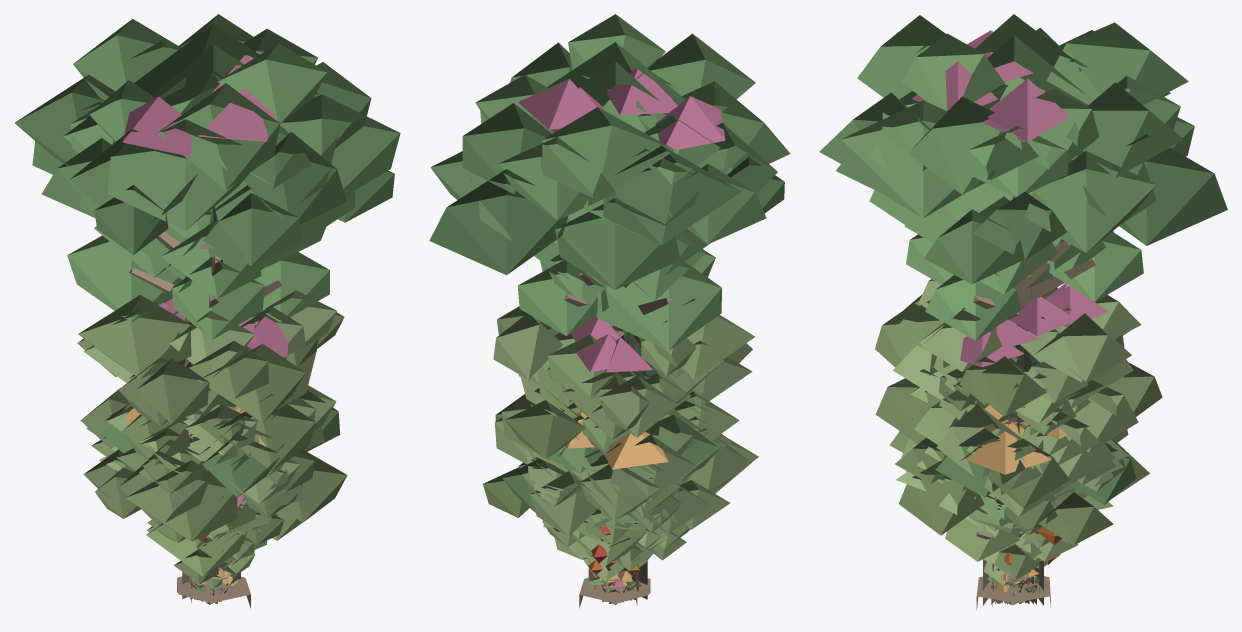
File: summer.glb
3 renders of one model, left to right at view 1: azimuth 30°, elevation 25°; view 2: azimuth 150°, elevation 25°; view 3: azimuth 270°, elevation 25°, orthographic. The views are drawn at different scales.
Parts seen in each view (by area): view 1: tree.trop.kapok__summer, tree.trop.dipterocarp__summer, tree.sub.camphor__summer, tree.temp.willow__summer, tree.temp.oak__summer, tree.sub.paulownia__summer, tree.trop.flame_tree__summer, tree.trop.mango__summer, tree.temp.plane_maple__summer, tree.sub.citrus__summer, tree.sub.tea_oil__summer, tree.trop.baobab__summer (+1 smaller); view 2: tree.trop.kapok__summer, tree.trop.dipterocarp__summer, tree.sub.camphor__summer, tree.trop.flame_tree__summer, tree.sub.paulownia__summer, tree.temp.willow__summer, tree.temp.oak__summer, tree.trop.mango__summer, tree.sub.citrus__summer, tree.sub.tea_oil__summer, tree.temp.plane_maple__summer, tree.trop.baobab__summer (+2 smaller); view 3: tree.trop.kapok__summer, tree.trop.dipterocarp__summer, tree.sub.camphor__summer, tree.temp.oak__summer, tree.trop.flame_tree__summer, tree.temp.willow__summer, tree.sub.paulownia__summer, tree.trop.mango__summer, tree.sub.citrus__summer, tree.temp.plane_maple__summer, tree.temp.ginkgo__summer, tree.temp.birch__summer (+3 smaller).
Part boxes in pixels (x1,y1,x2,y2): tree.trop.kapok__summer: (15, 14, 371, 599); tree.trop.dipterocarp__summer: (32, 40, 400, 603); tree.sub.camphor__summer: (77, 290, 344, 599); tree.temp.willow__summer: (91, 437, 347, 599); tree.temp.oak__summer: (80, 385, 336, 599); tree.sub.paulownia__summer: (112, 298, 317, 576); tree.trop.flame_tree__summer: (86, 390, 340, 599); tree.trop.mango__summer: (83, 403, 324, 599); tree.temp.plane_maple__summer: (106, 419, 302, 591); tree.sub.citrus__summer: (147, 526, 255, 584); tree.sub.tea_oil__summer: (147, 495, 284, 553); tree.trop.baobab__summer: (177, 505, 250, 608); tree.trop.kapok__summer: (462, 14, 777, 599); tree.trop.dipterocarp__summer: (429, 61, 790, 605); tree.sub.camphor__summer: (493, 299, 754, 599); tree.trop.flame_tree__summer: (494, 406, 751, 600); tree.sub.paulownia__summer: (518, 316, 752, 579); tree.temp.willow__summer: (483, 438, 758, 571); tree.temp.oak__summer: (495, 368, 739, 599); tree.trop.mango__summer: (521, 409, 732, 600); tree.sub.citrus__summer: (555, 527, 686, 581); tree.sub.tea_oil__summer: (542, 509, 667, 563); tree.temp.plane_maple__summer: (518, 416, 722, 590); tree.trop.baobab__summer: (579, 510, 650, 608); tree.trop.kapok__summer: (819, 14, 1188, 605); tree.trop.dipterocarp__summer: (836, 35, 1227, 606); tree.sub.camphor__summer: (875, 273, 1162, 604); tree.temp.oak__summer: (875, 369, 1138, 604); tree.trop.flame_tree__summer: (903, 390, 1135, 603); tree.temp.willow__summer: (889, 426, 1149, 603); tree.sub.paulownia__summer: (891, 275, 1124, 579); tree.trop.mango__summer: (895, 396, 1125, 603); tree.sub.citrus__summer: (983, 532, 1078, 586); tree.temp.plane_maple__summer: (906, 424, 1116, 602); tree.temp.ginkgo__summer: (939, 358, 1090, 602); tree.temp.birch__summer: (927, 316, 1075, 410).
Bounding box in the file's own units: 17.86 × 30.36 × 19.09.
